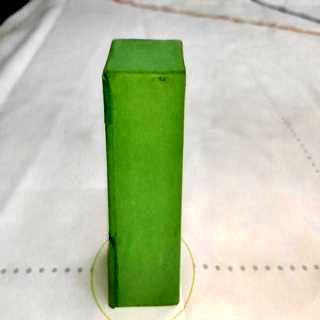greenbox: (102, 36, 188, 310)
